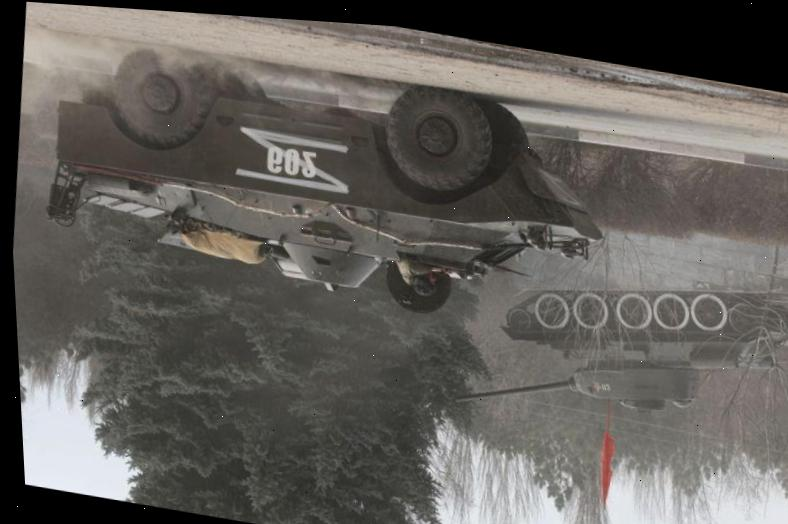tank: (36, 32, 603, 350), (460, 252, 788, 464)
